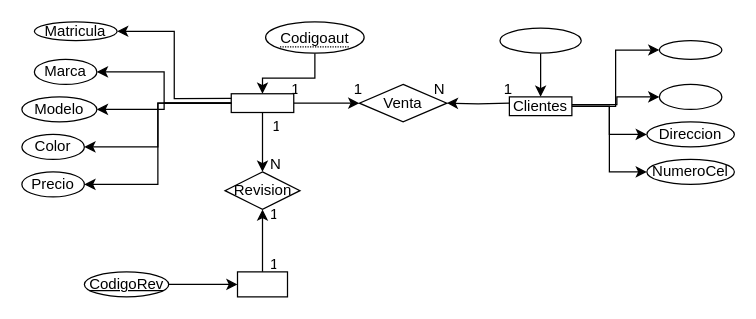
The diagram is 756 pixels wide and 319 high, and some of its shapes have lost their labels. Here are the shapes that lost their labels. From the top down, the centre of each, then its label:
At [540,40]: "CodigoInt".
At [690,49]: "RFC".
At [262,102]: "Coches".
At [690,96]: "Nombre".
At [262,284]: "Taller".
